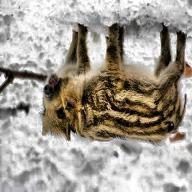boar: (25, 8, 192, 158)
